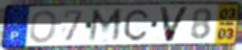7: (61, 10, 85, 43)
8: (190, 7, 215, 41)
C: (123, 8, 151, 42)
M: (87, 7, 125, 44)
O: (28, 9, 59, 44)
V: (157, 6, 192, 43)
